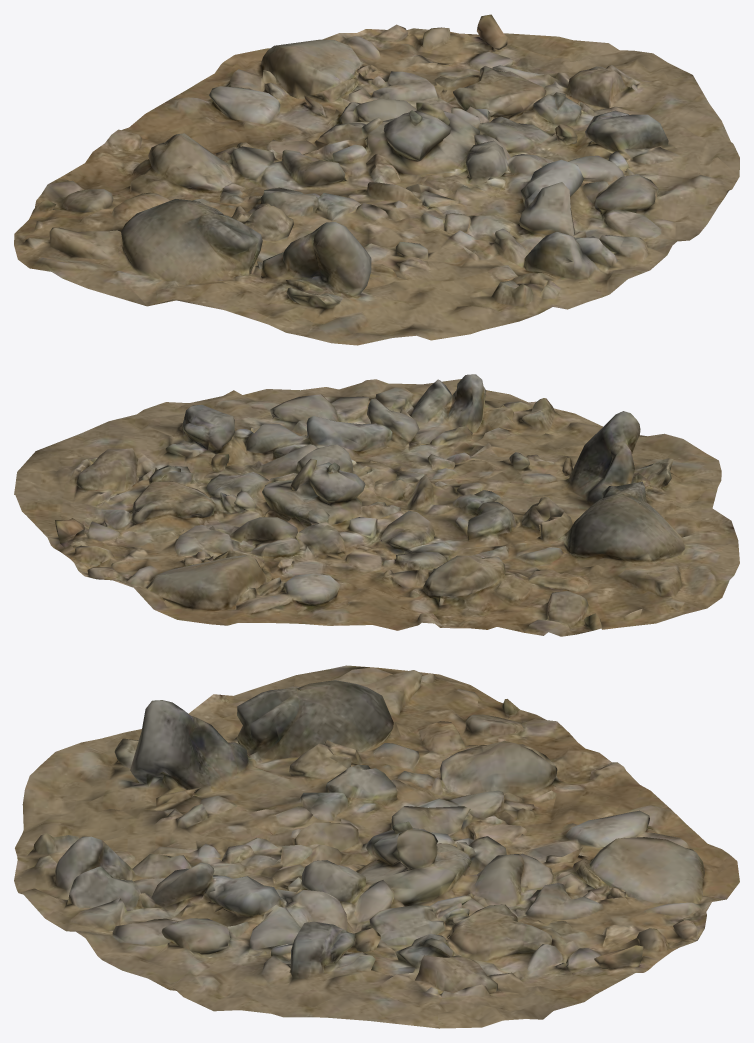
File: rock-sand-small.afbf8255.glb
3 renders of one model, top to bottom at view 1: azimuth 30°, elevation 25°; view 2: azimuth 150°, elevation 25°; view 3: azimuth 270°, elevation 25°, orthographic. The views are drawn at different scales.
Parts seen in each view (by area): view 1: model; view 2: model; view 3: model.
Boxes of the visible parts, x1,y1,x2,y2 form: model: (14, 14, 739, 345); model: (14, 374, 739, 636); model: (14, 665, 739, 1028).
Bounding box in the file's own units: 4.62 × 0.5333 × 3.88.
1 material, 1 textured.
